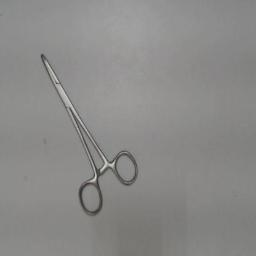Mayo Needle Holder: (34, 46, 142, 220)
